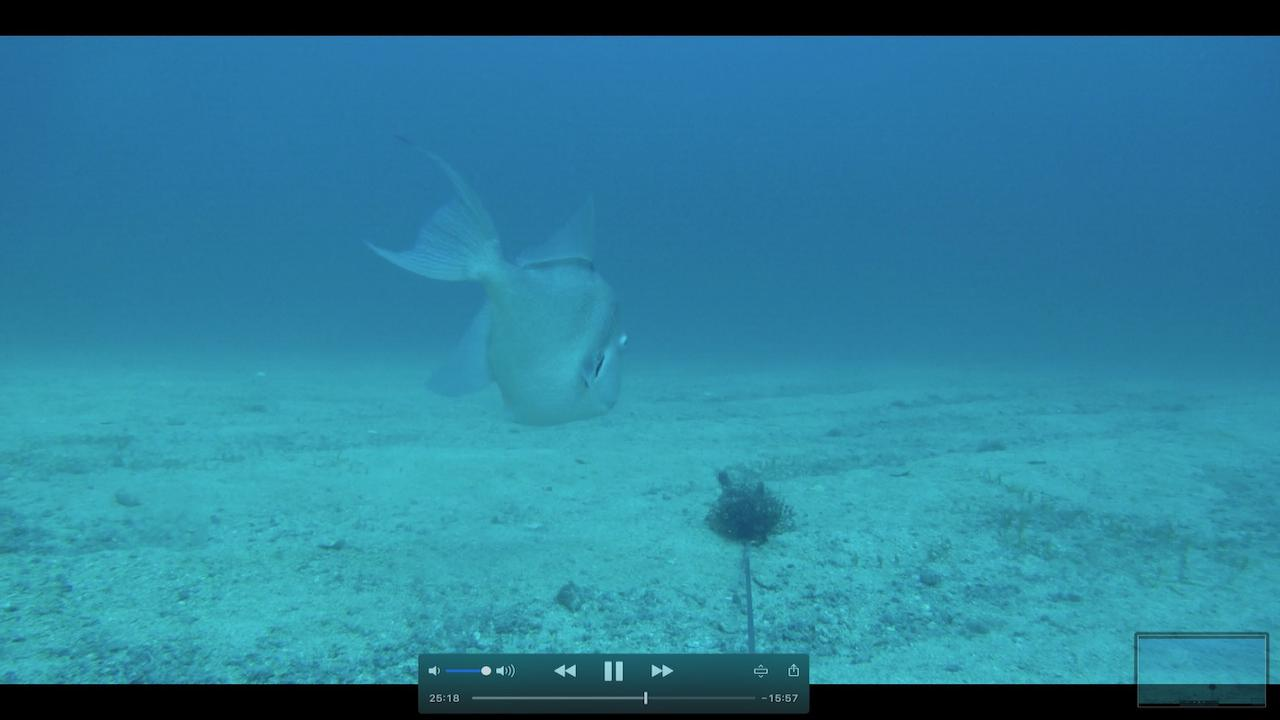balistes: (345, 128, 633, 430)
